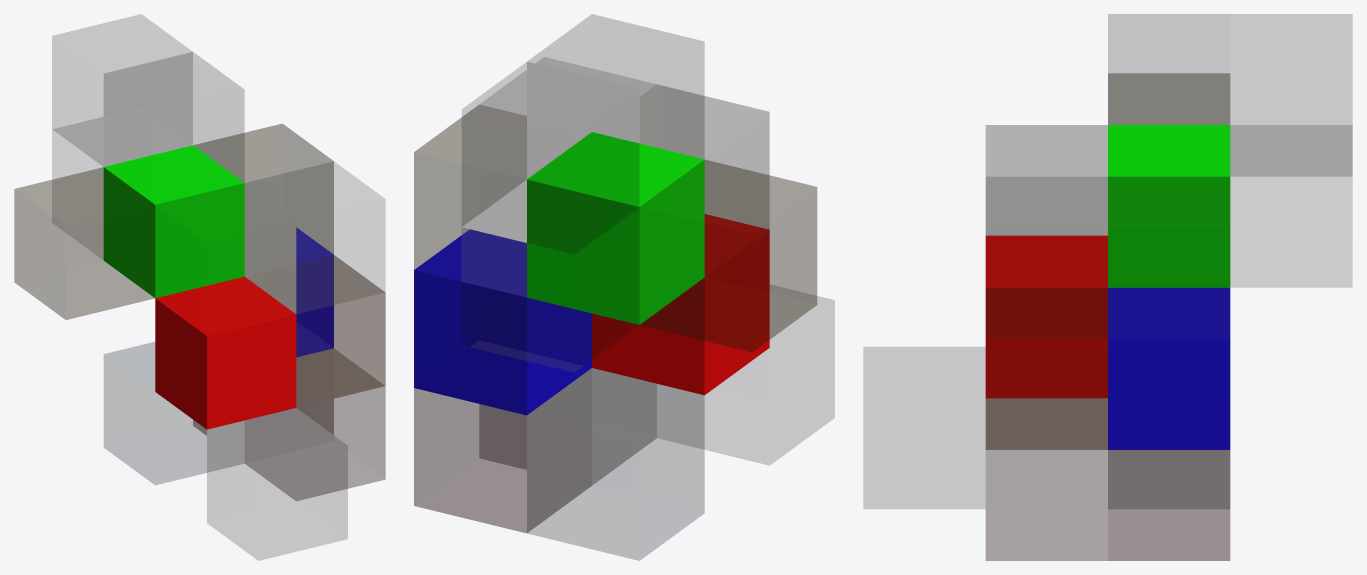
The model's file is iter_1.obj.
3 views of the same model, side by side, from view 1: azimuth 30°, elevation 25°; view 2: azimuth 150°, elevation 25°; view 3: azimuth 270°, elevation 25° (orthographic). The views are drawn at different scales.
Parts seen in each view (by area): view 1: iter_1; view 2: iter_1; view 3: iter_1.
Part boxes in pixels (left/top/right/bottom): iter_1: left=14, top=14, right=385, bottom=560; iter_1: left=414, top=14, right=834, bottom=560; iter_1: left=864, top=14, right=1352, bottom=560.
Size of the model in its own units: 0.3 by 0.4 by 0.4.
